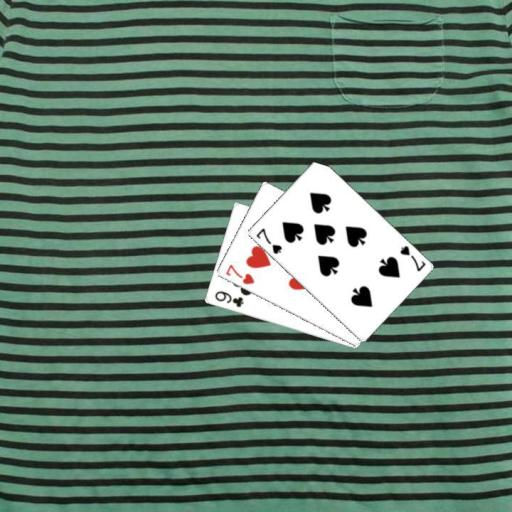7H: (222, 261, 256, 286)
7S: (252, 225, 283, 255), (396, 243, 427, 273)
9C: (212, 288, 246, 309)
